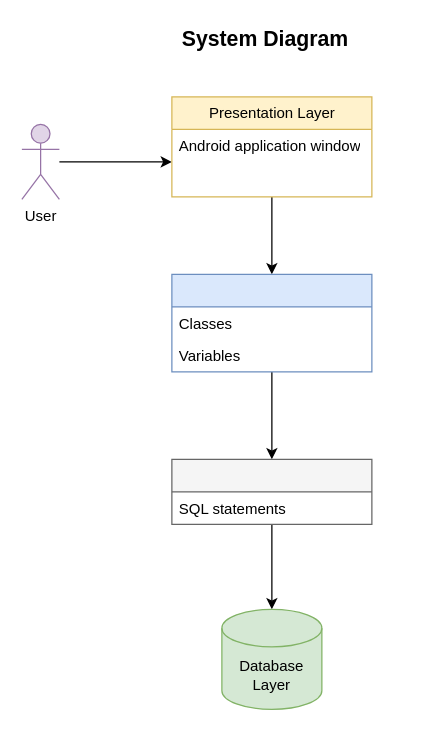
Some shapes in this 431 by 731 pixel diagram are drawn without their labels. The box of each missing label's shape, as (x1, y1, x2, y2) in pixels:
Business Layer: (171, 273, 372, 372)
Persistence Layer: (171, 458, 372, 524)
